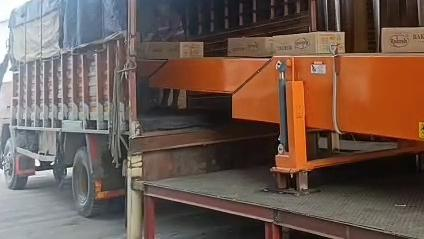box: (272, 32, 344, 55), (380, 27, 424, 52), (137, 42, 203, 58), (227, 37, 272, 57)
